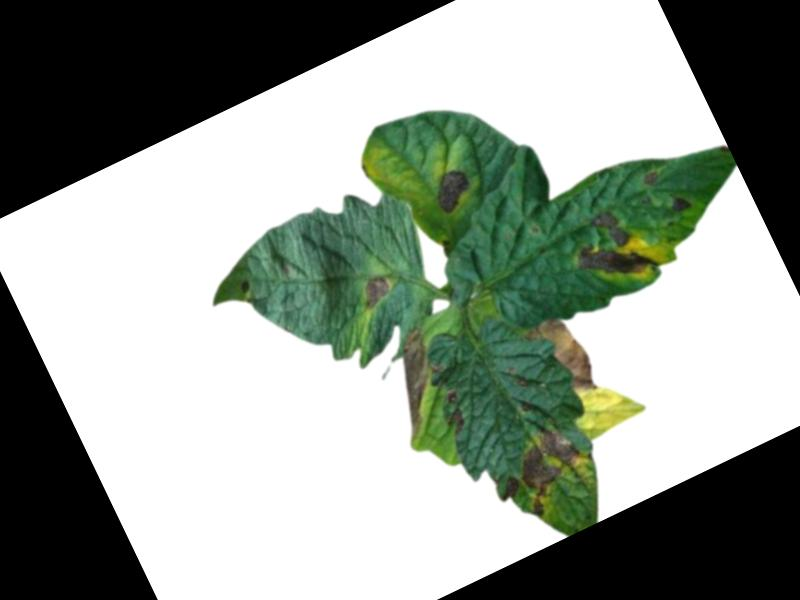Early_blight: (365, 326, 459, 440), (560, 198, 660, 298), (500, 420, 597, 521), (519, 308, 603, 407), (426, 165, 478, 218), (351, 267, 397, 311), (437, 388, 472, 436), (492, 473, 525, 507), (664, 191, 693, 217), (638, 166, 660, 187), (236, 275, 253, 295)
